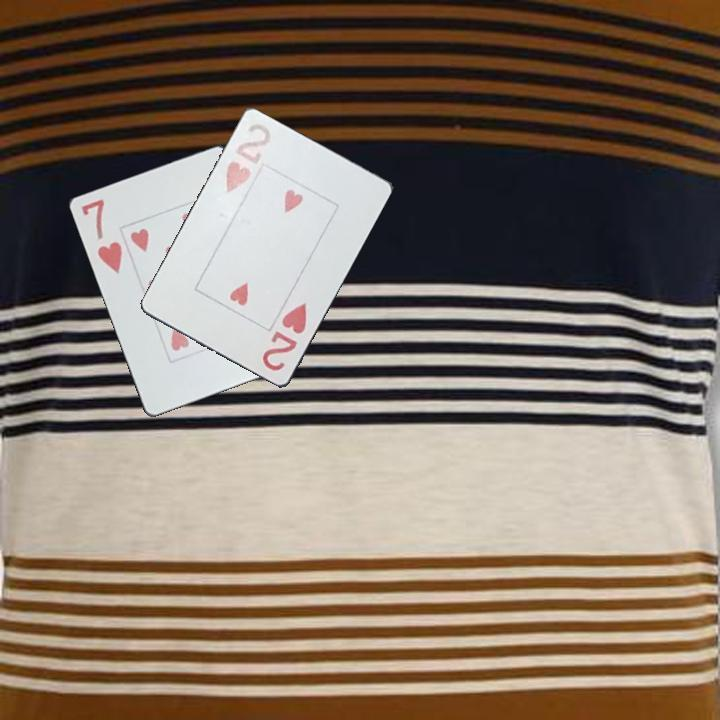2h: (220, 120, 274, 197), (259, 300, 310, 374)
7h: (78, 195, 126, 277)
